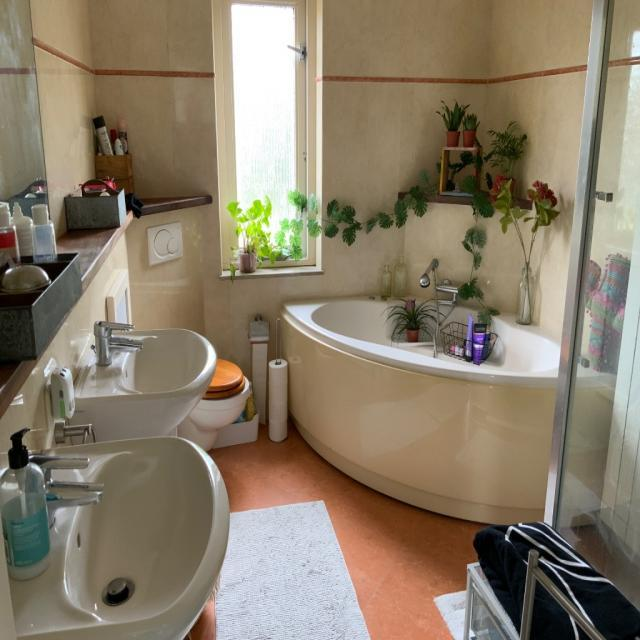bath: (279, 279, 617, 389)
douche: (544, 0, 640, 611)
toilet: (146, 221, 250, 451)
wastafel: (8, 319, 230, 640)
